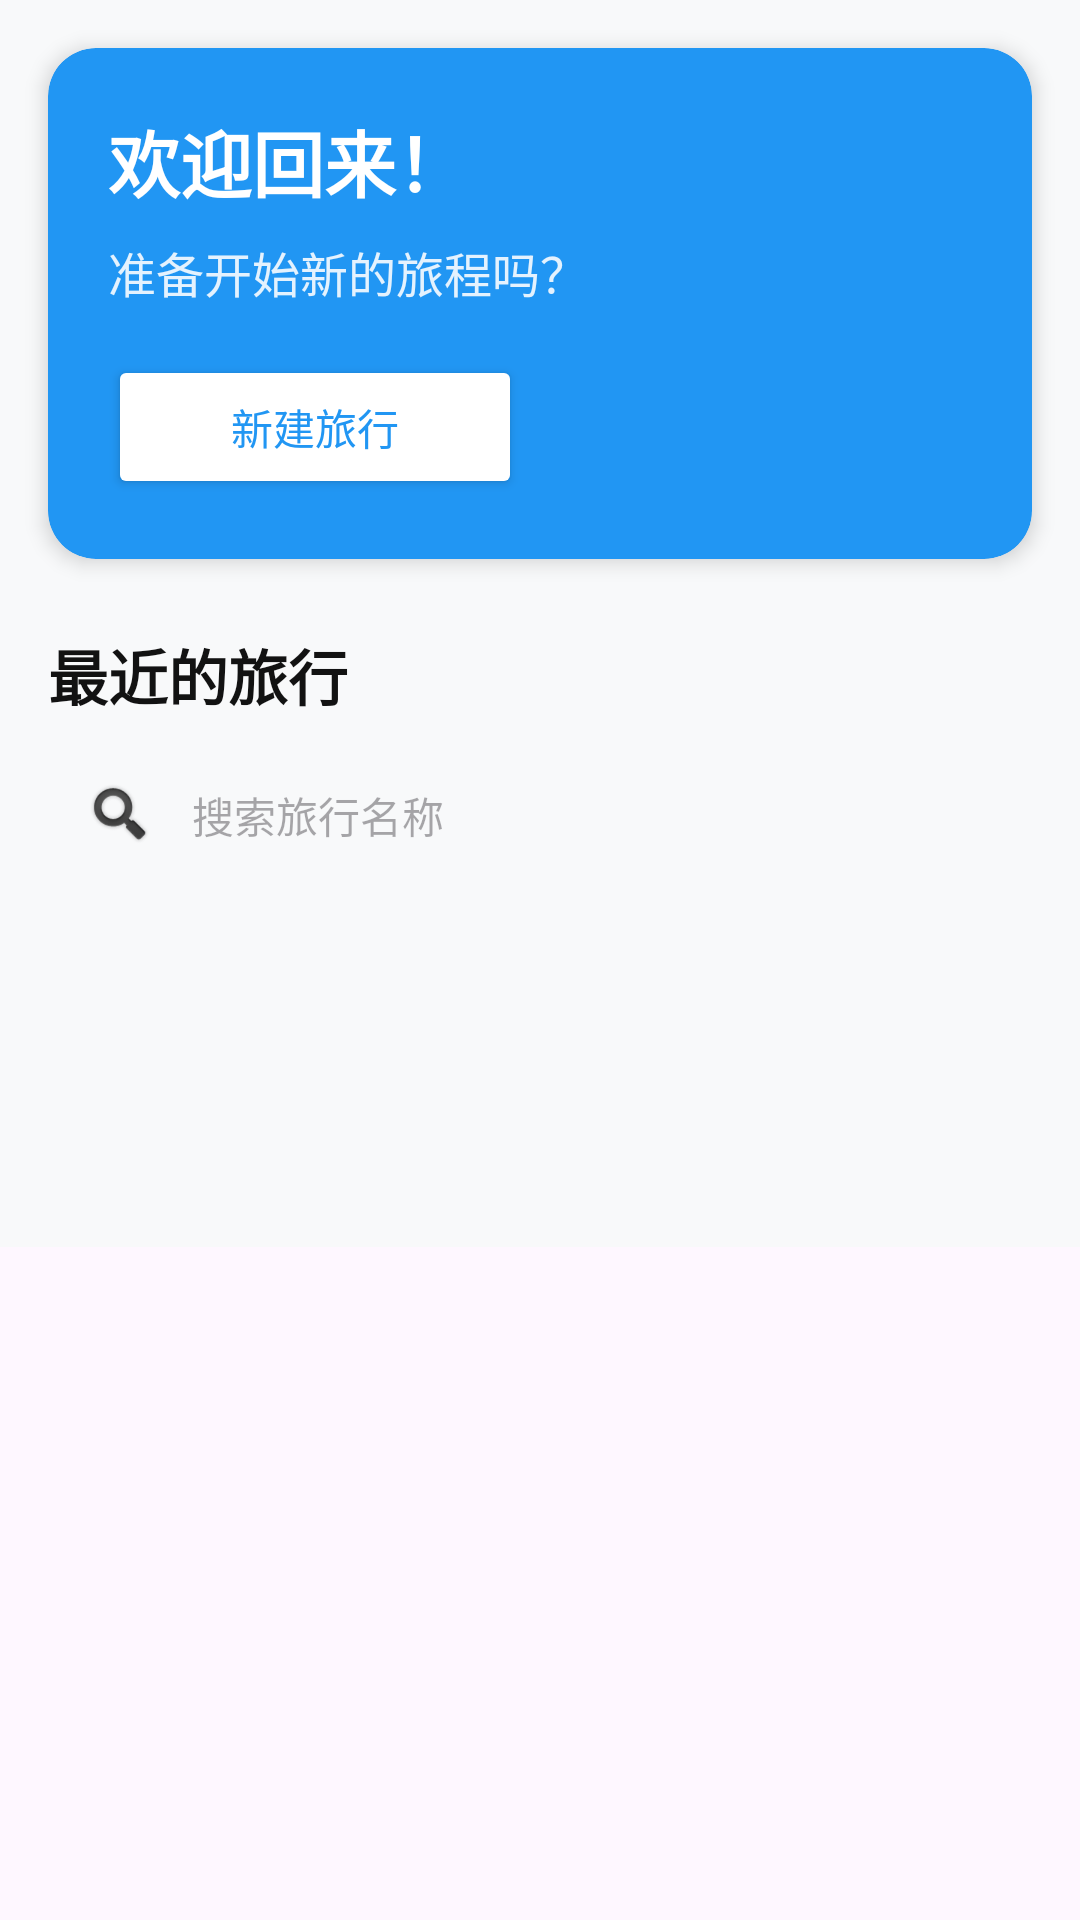

Named icons in this screenshot (1080*1920) and their bounding boxes, (x1, y1, x2, y2):
search category: (93, 787, 146, 840)
